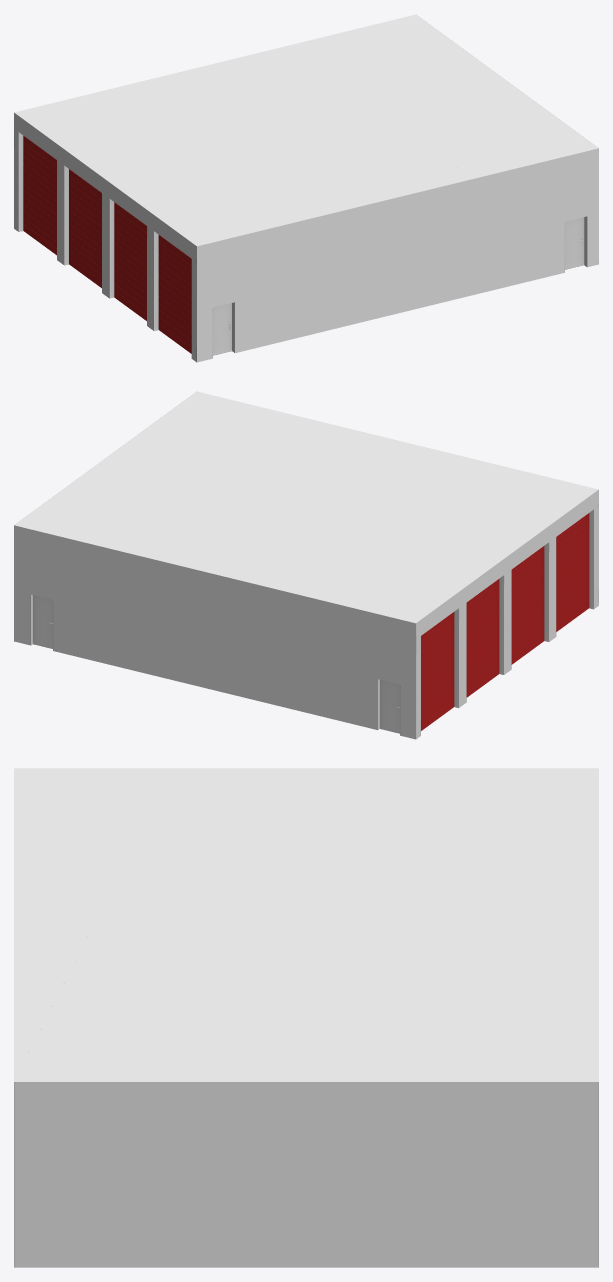
Rendered from stalling.fbx.
3 renders of one model, top to bottom at view 1: azimuth 30°, elevation 25°; view 2: azimuth 150°, elevation 25°; view 3: azimuth 270°, elevation 25°, orthographic. The views are drawn at different scales.
Parts seen in each view (by area): view 1: storage1; view 2: storage1; view 3: storage1.
Part boxes in pixels (<box>): storage1: <box>14,14,598,362</box>; storage1: <box>14,391,598,739</box>; storage1: <box>14,768,598,1267</box>.
Bounding box in the file's own units: 23.6 × 6.51 × 18.59.
1 material, 1 textured.
